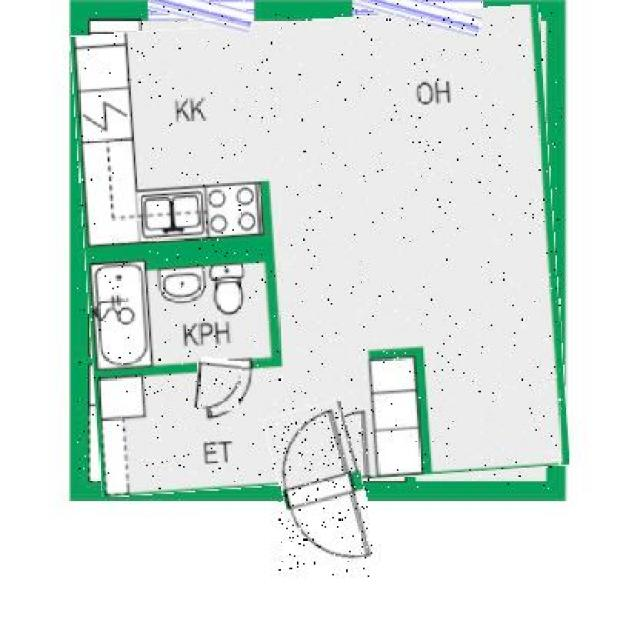door: (274, 405, 372, 577), (196, 358, 242, 411)
window: (352, 0, 482, 29), (148, 0, 254, 26)
zone: (77, 14, 561, 491)
